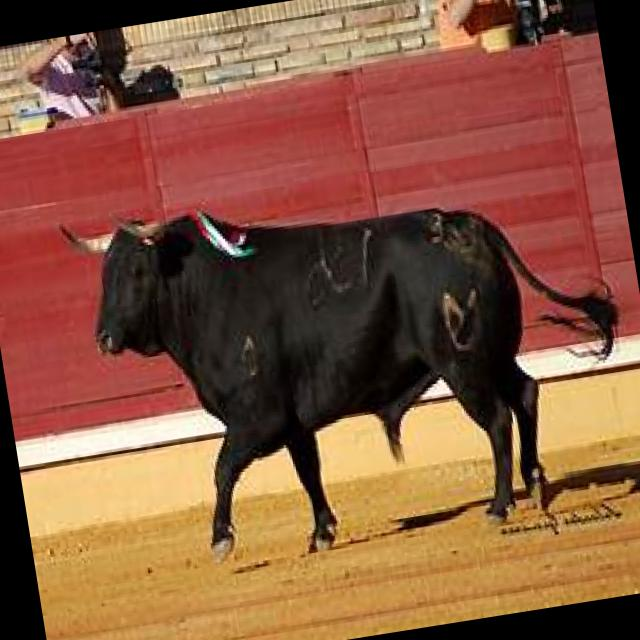animal: (59, 150, 640, 578)
